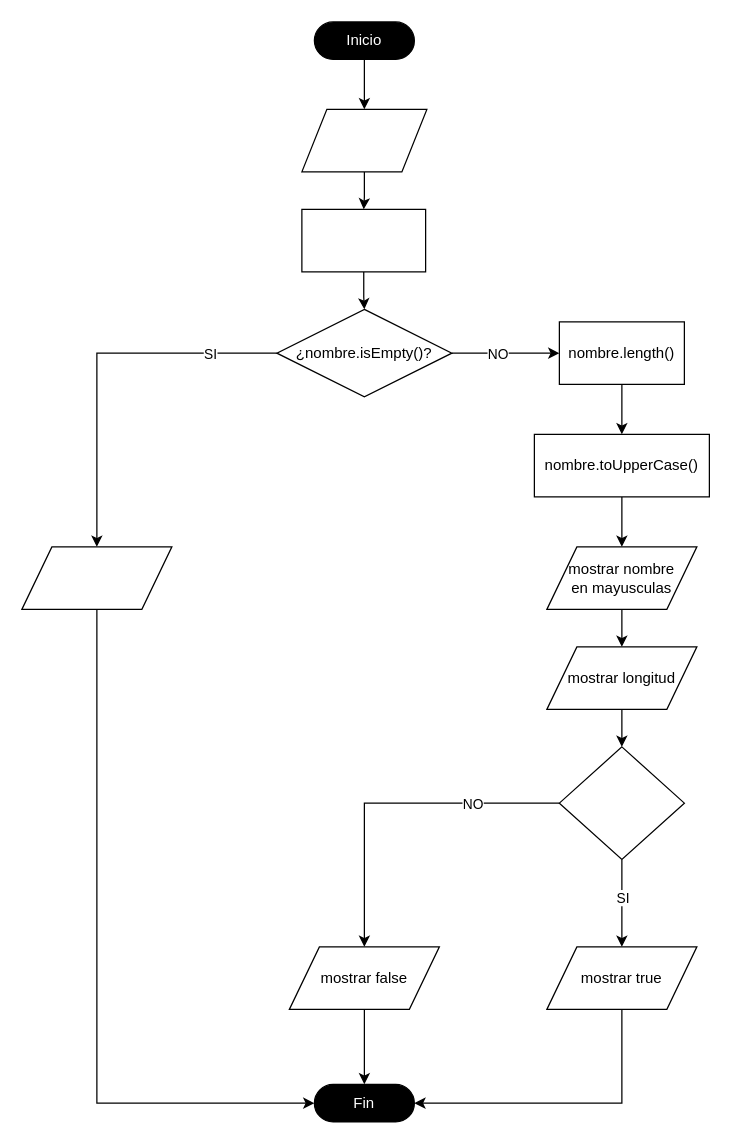
Some shapes in this 731 by 1144 pixel diagram are drawn without their labels. The box of each missing label's shape, as (x1, y1, x2, y2) in pixels:
Leer nombre: (301, 108, 427, 172)
mostrar "Error, nombre vacio": (21, 546, 172, 609)
nombre.trim(): (301, 208, 426, 272)
¿contiene "A"?: (558, 746, 684, 859)
